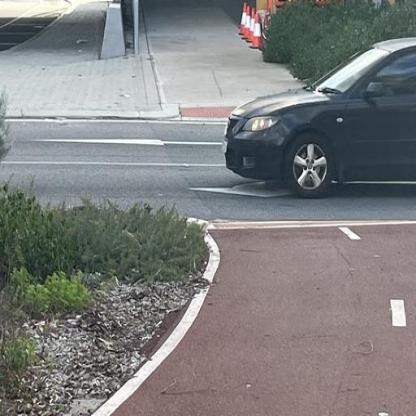Tire: (282, 133, 336, 200)
